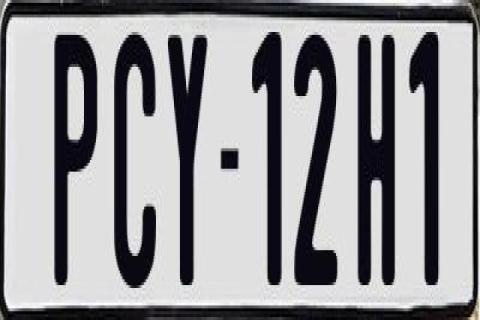0: (290, 35, 340, 291), (250, 27, 286, 297), (410, 26, 444, 291)
C: (114, 29, 156, 297)
H: (356, 26, 394, 276)
P: (53, 35, 101, 285)
Y: (167, 26, 213, 276)
